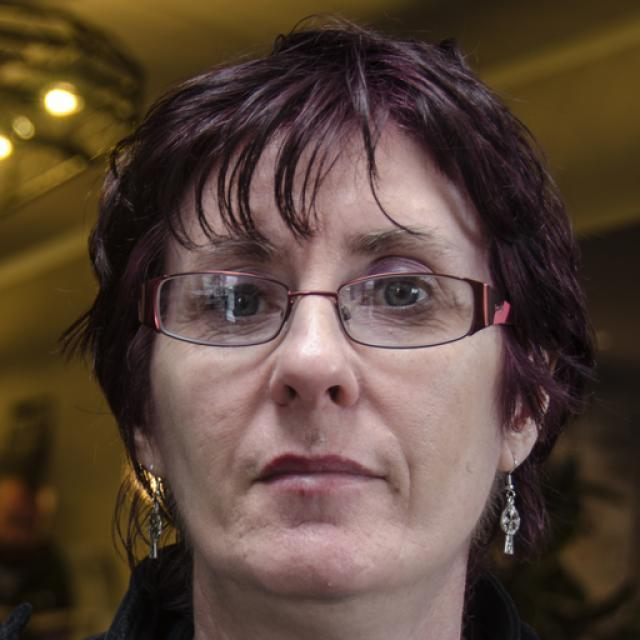fear: (152, 120, 502, 611)
